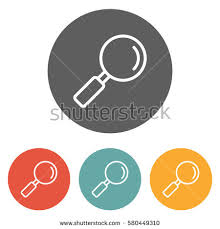searchIcon: (73, 34, 146, 108), (20, 158, 58, 198), (91, 158, 129, 198), (162, 159, 200, 199)
